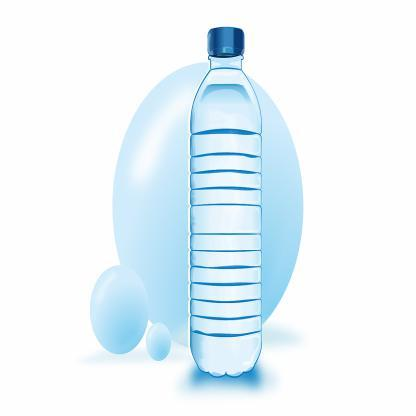bottle: (191, 20, 268, 392)
